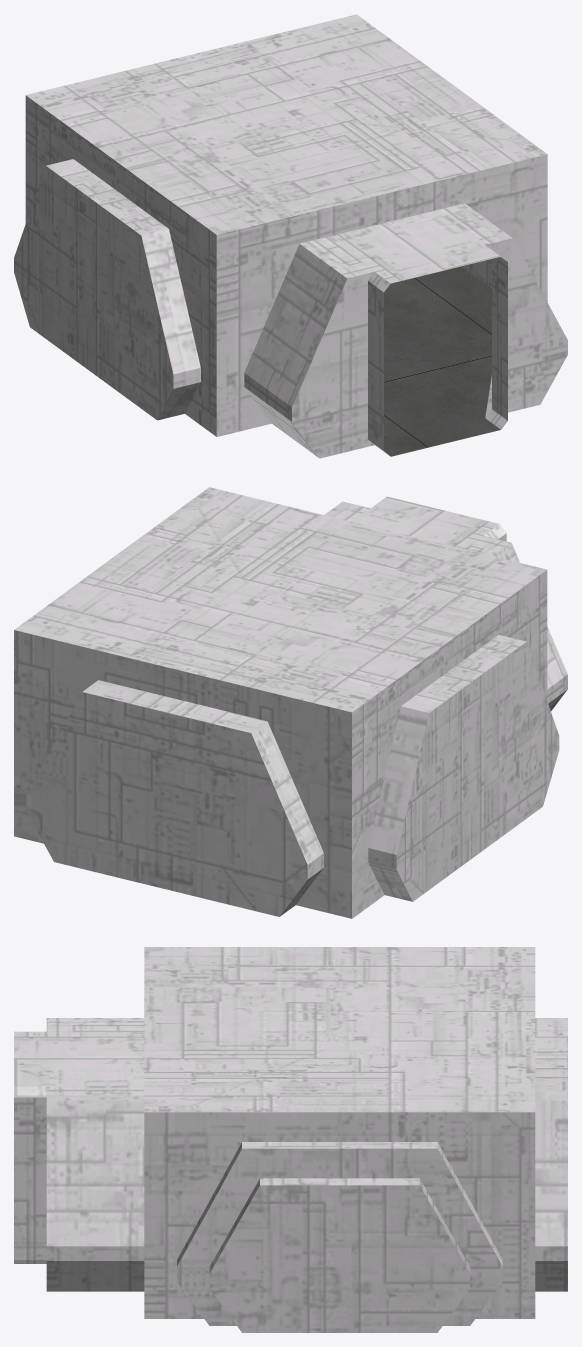
File: thm_spc_star_destroyer_s01_r29_room05_mesh_r29.fbx
3 views of the same model, one above another, from view 1: azimuth 30°, elevation 25°; view 2: azimuth 150°, elevation 25°; view 3: azimuth 270°, elevation 25° (orthographic). The views are drawn at different scales.
Visible parts, largest first — view 1: mesh_node; view 2: mesh_node; view 3: mesh_node.
Part boxes in pixels (x1,y1,x2,y2): mesh_node: [14, 14, 567, 458]; mesh_node: [14, 487, 567, 918]; mesh_node: [14, 947, 567, 1332].
Bounding box in the file's own units: 7 × 3.5 × 8.5.
Materials: 2 (2 with a texture image).
